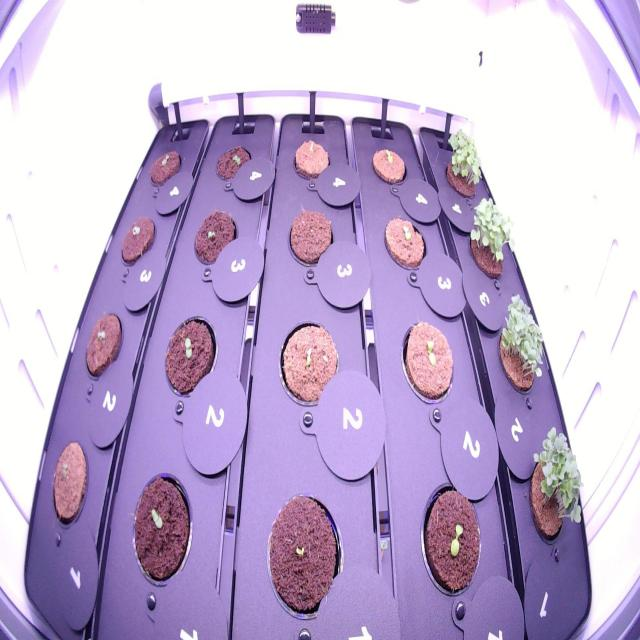germination: (415, 473, 483, 612), (126, 466, 194, 592), (524, 422, 586, 554), (273, 313, 345, 418), (492, 286, 550, 402), (160, 310, 222, 410), (398, 314, 458, 411), (460, 194, 520, 284), (47, 431, 93, 536), (441, 120, 488, 204), (80, 306, 128, 384), (190, 204, 242, 273), (380, 210, 430, 278), (117, 206, 159, 274), (288, 131, 333, 186), (212, 139, 257, 192), (367, 141, 410, 190), (146, 139, 185, 192)
pod: (261, 484, 348, 627), (282, 202, 340, 280)
